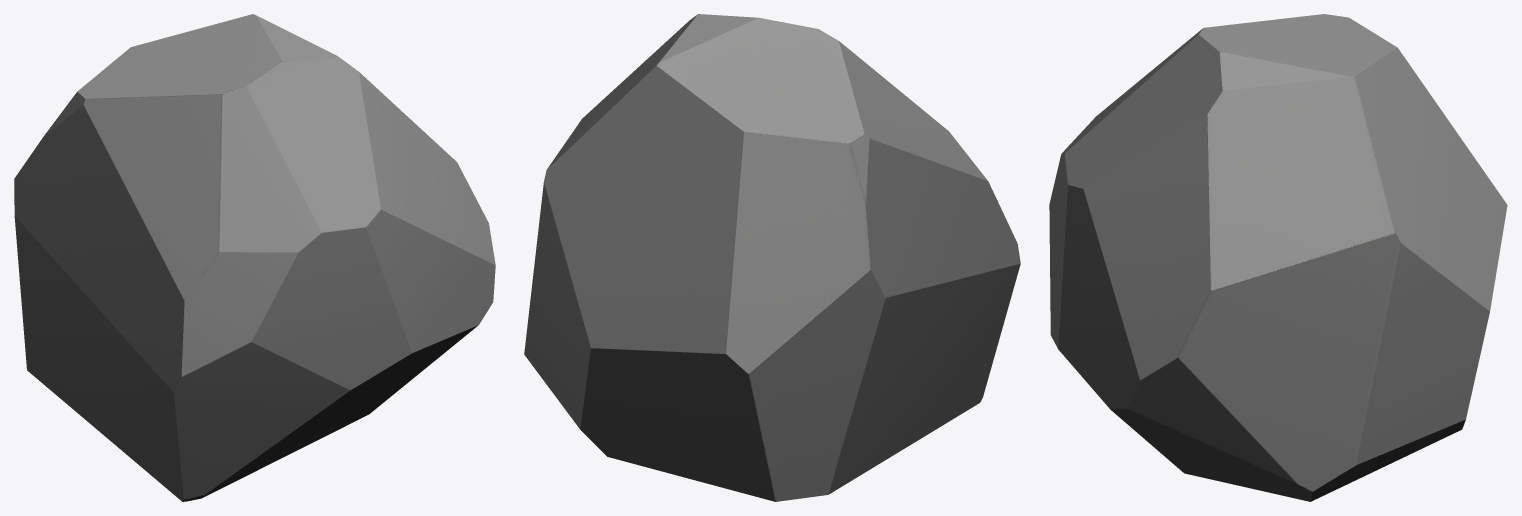
Rendered from Rock2.fbx.
The picture shows the model from 3 angles, left to right: view 1: azimuth 30°, elevation 25°; view 2: azimuth 150°, elevation 25°; view 3: azimuth 270°, elevation 25°; orthographic projection. The views are drawn at different scales.
Parts seen in each view (by area): view 1: Rock2; view 2: Rock2; view 3: Rock2.
Boxes of the visible parts, x1,y1,x2,y2 form: Rock2: [14, 14, 495, 501]; Rock2: [524, 14, 1020, 501]; Rock2: [1049, 14, 1507, 501].
Size of the model in its own units: 180 by 165 by 175.
